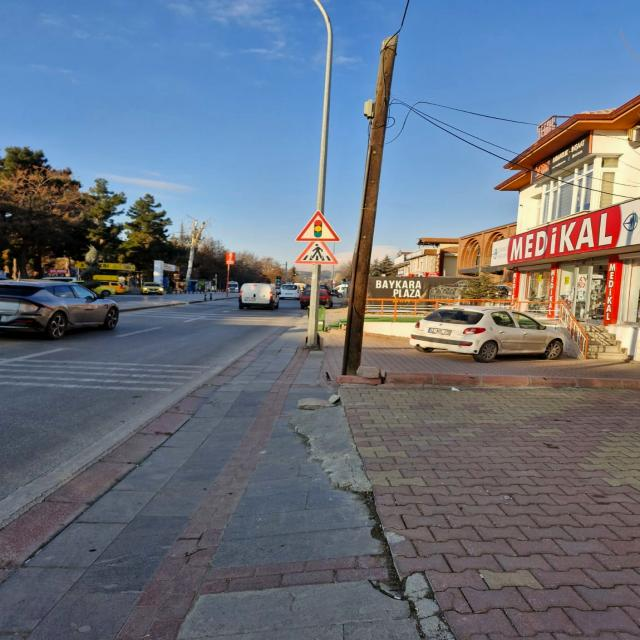okul_gecidi: (293, 241, 339, 265)
